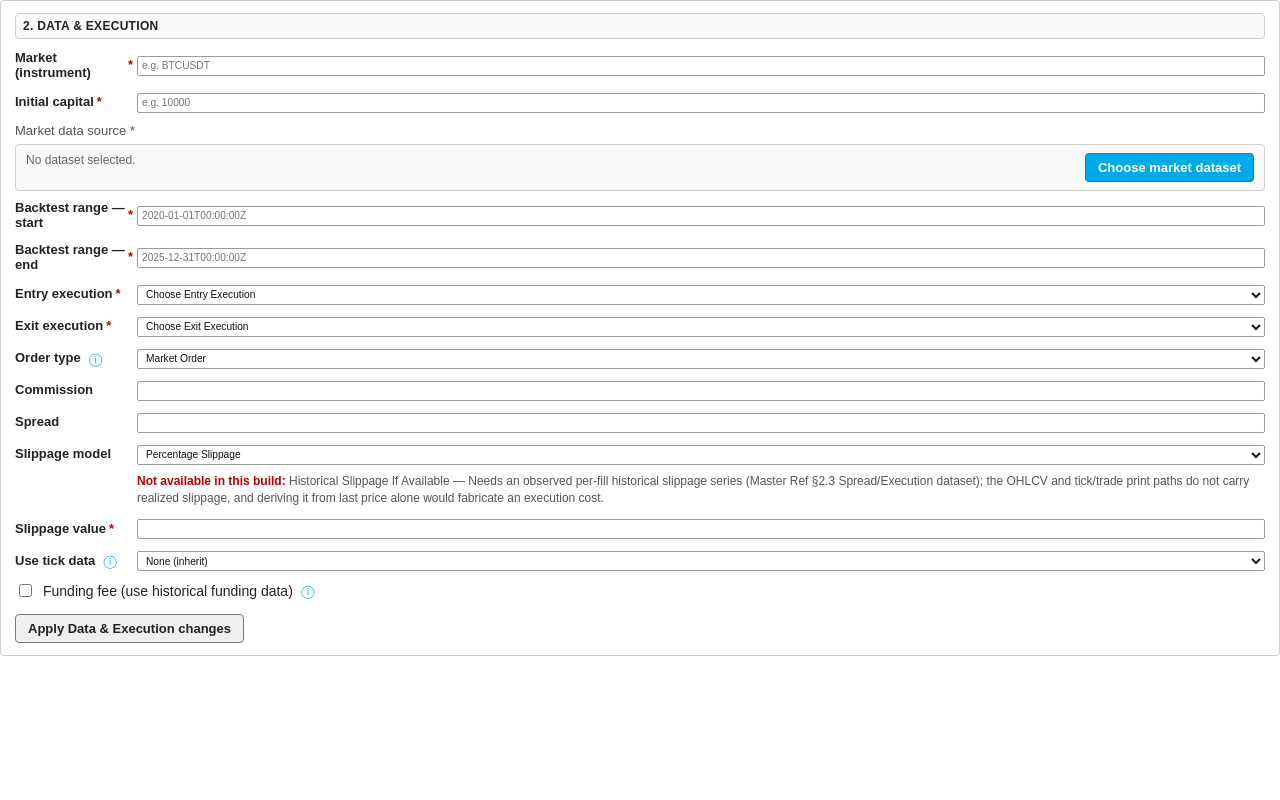
Test: DataExecutionCard › reveals the Limit Order Details subtree only for a limit order type
The width and height of the screenshot is (1280, 800).
Expected: the field labelled "Limit price rule" is not shown
Select "Limit Order" in the dropdown labelled "Order type". click: [701, 359]
box: [137,349,1265,369]
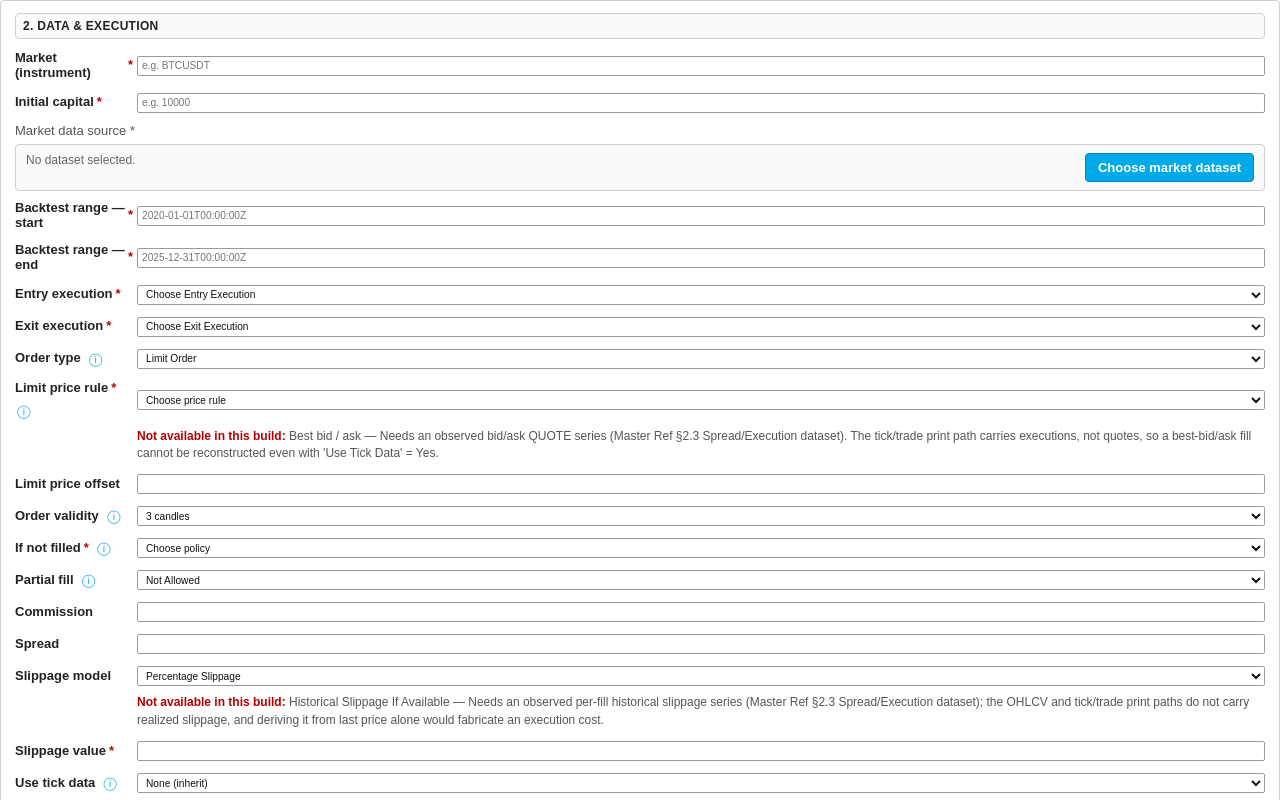
Now the dropdown labelled "Limit price rule *" is shown, box [137,390,1265,410]
